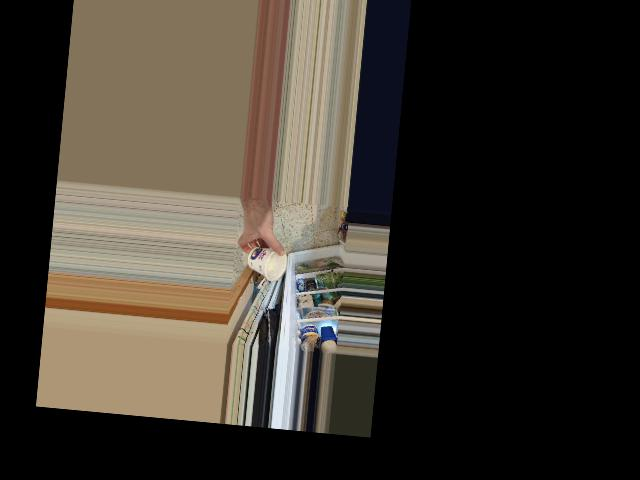cotage: (246, 240, 280, 279)
